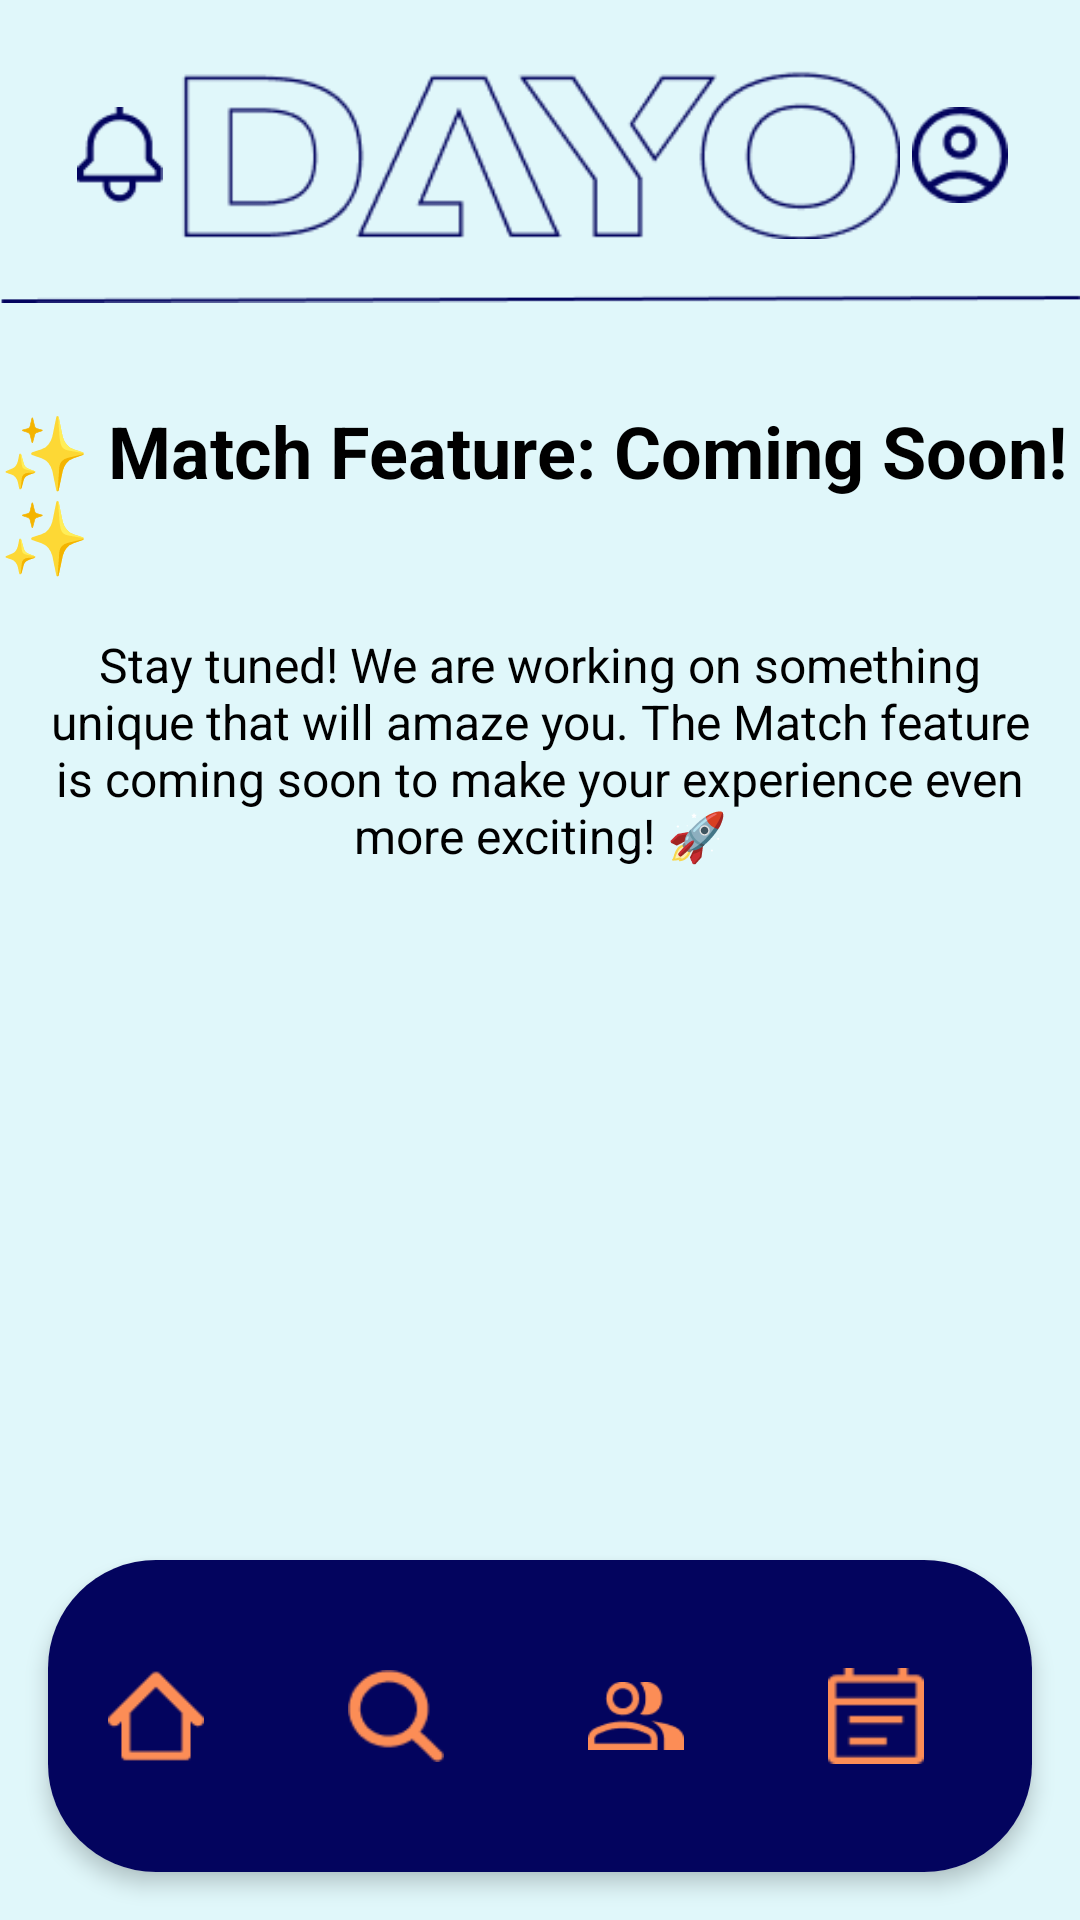

Where to tap for icons on this 1080*1920 app screen, as [x,y]:
calendar: [876,1716]
home: [156,1716]
match: [636,1716]
notifications: [120,155]
profil: [960,155]
search: [396,1716]
